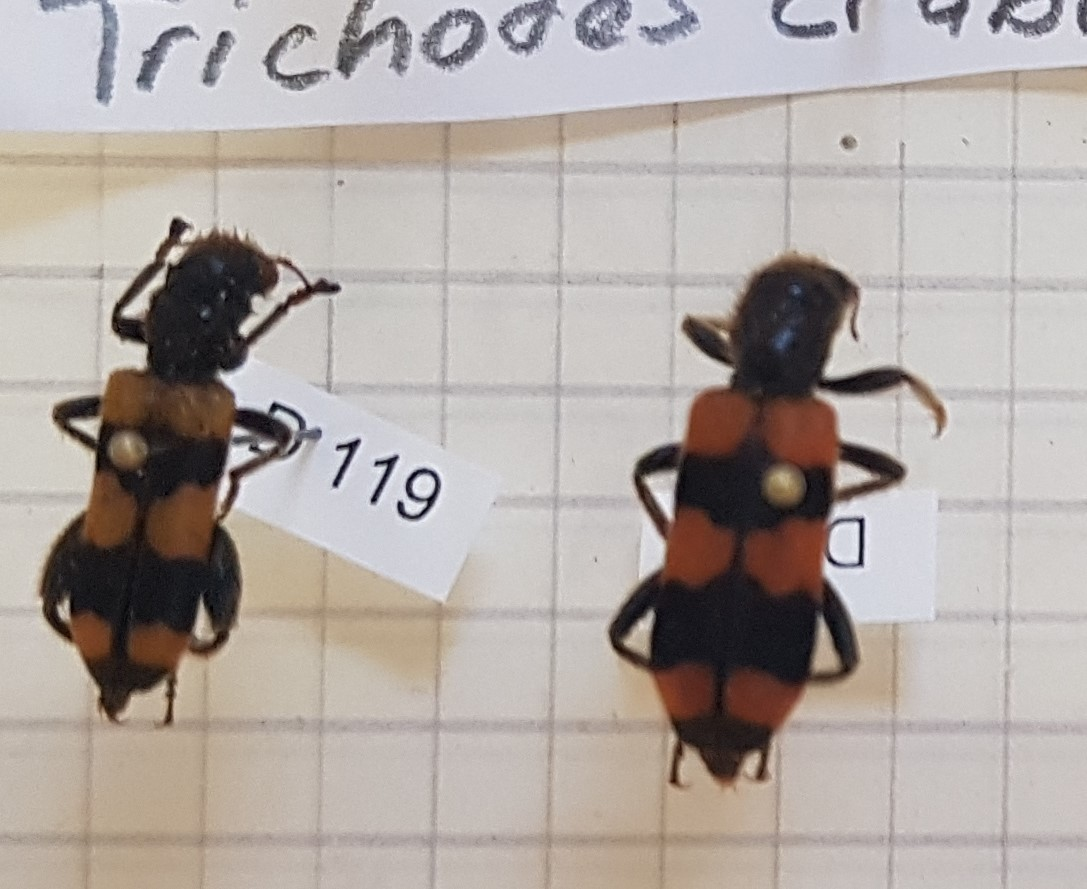trichodes_crabroniformis: (607, 231, 961, 810), (31, 200, 348, 736)
